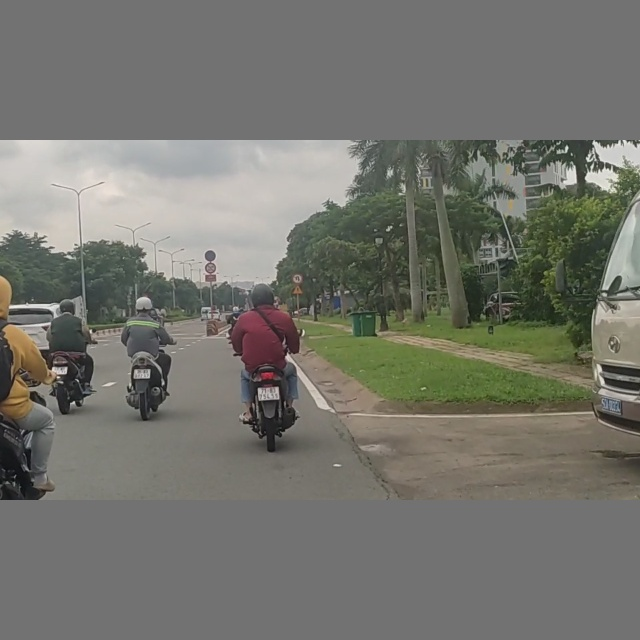P.111: (205, 263, 216, 273)
P.124a*: (292, 273, 303, 283)
P.130: (205, 251, 216, 261)
W.224: (292, 283, 303, 294)
